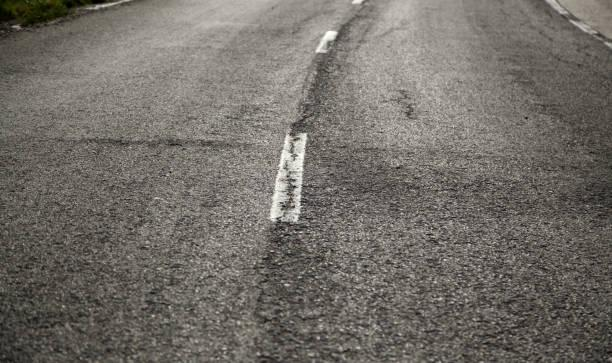faded_road_lines: (265, 130, 307, 225), (542, 0, 612, 55), (315, 30, 342, 58)
